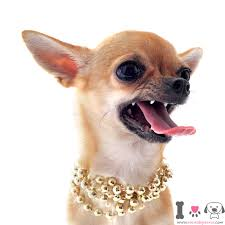chihuahua: (16, 18, 205, 218)
